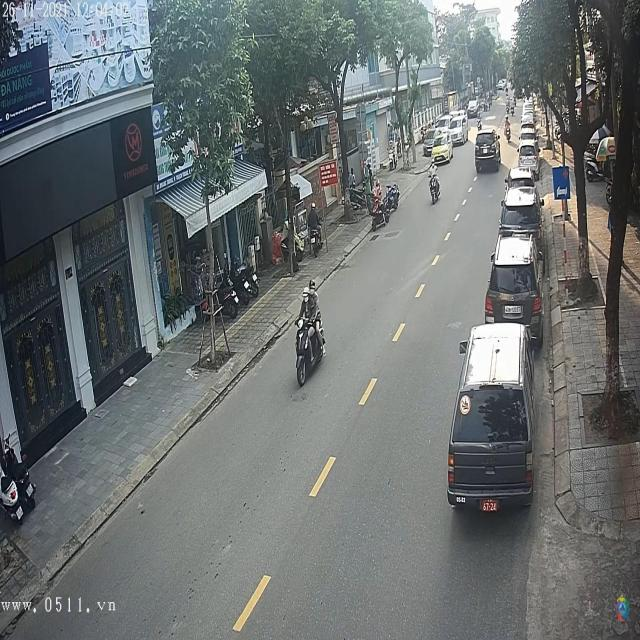car: (449, 324, 534, 511), (485, 239, 544, 345), (501, 184, 541, 228), (474, 131, 502, 172), (468, 100, 480, 118)
motorcycle: (295, 319, 327, 393), (429, 171, 442, 205)
